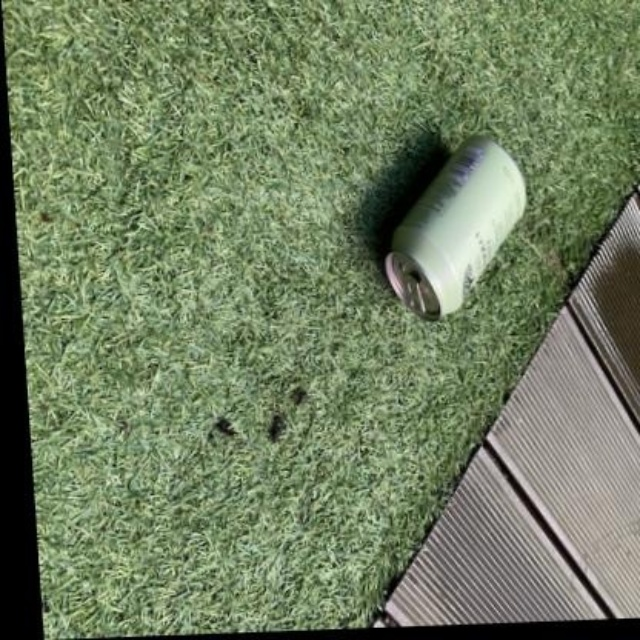trash: (385, 137, 525, 318)
